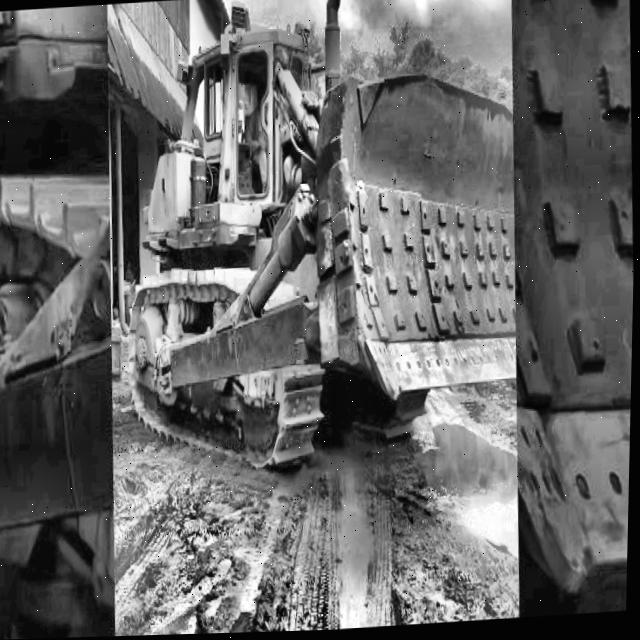buldozerpayloadergrader: (146, 0, 531, 504)
